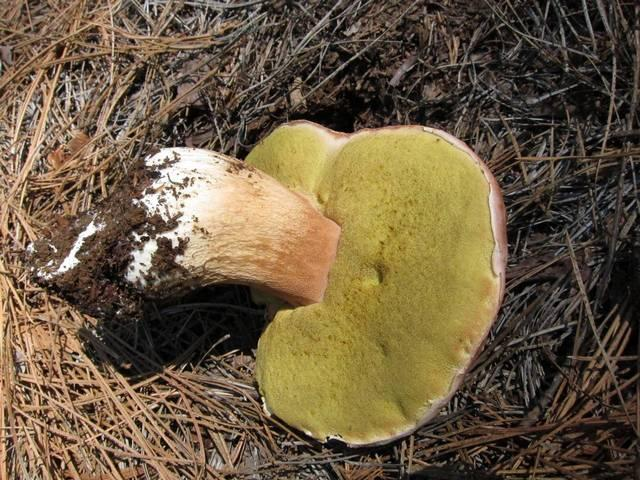Edible Mushroom: (38, 113, 508, 448)
